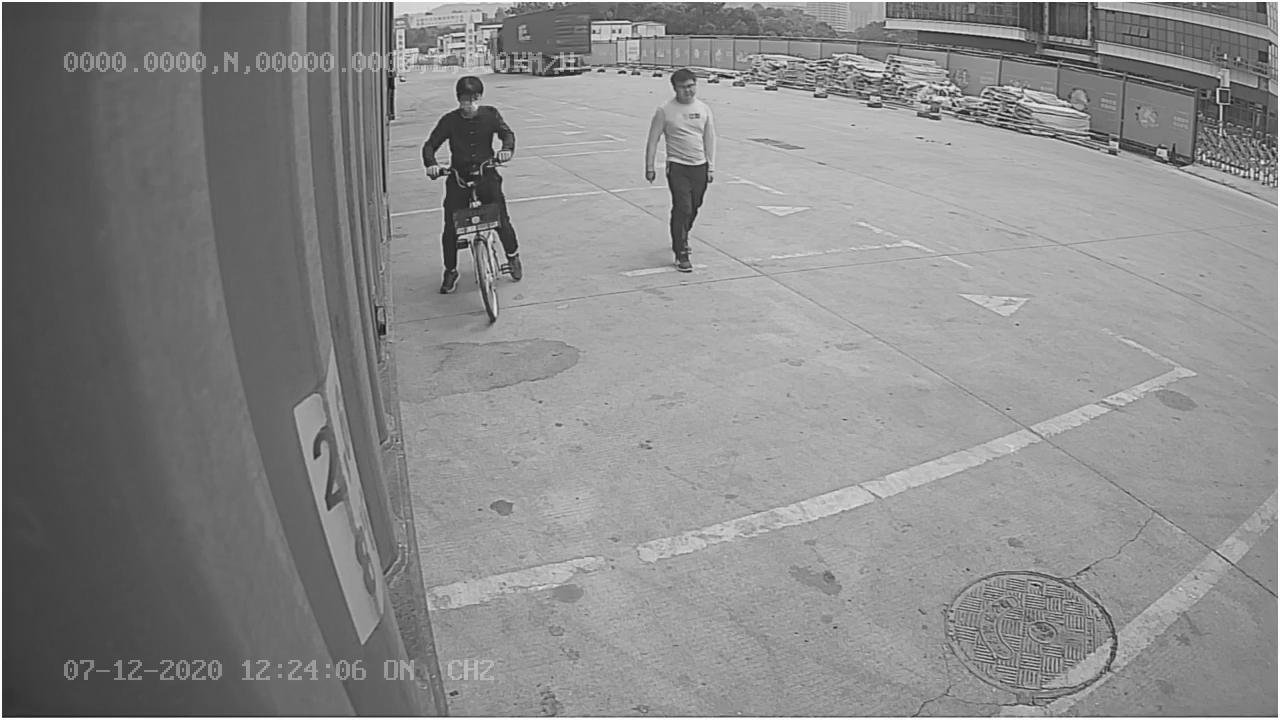person: (636, 64, 722, 276)
